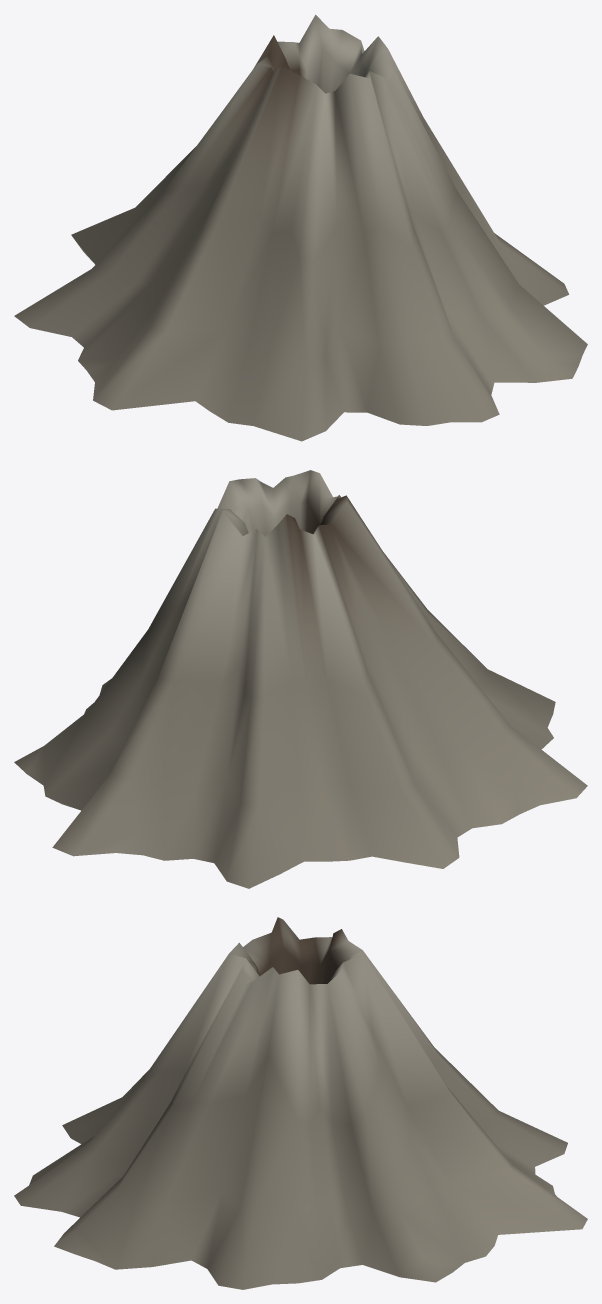
File: volcano-b-light.glb
3 views of the same model, one above another, from view 1: azimuth 30°, elevation 25°; view 2: azimuth 150°, elevation 25°; view 3: azimuth 270°, elevation 25° (orthographic). The views are drawn at different scales.
Parts seen in each view (by area): view 1: volcano-b.001; view 2: volcano-b.001; view 3: volcano-b.001.
Part boxes in pixels (x1=…): volcano-b.001: x1=14, y1=14, x2=587, y2=441; volcano-b.001: x1=14, y1=470, x2=587, y2=888; volcano-b.001: x1=14, y1=917, x2=587, y2=1289.
Bounding box in the file's own units: 2.05 × 1.11 × 2.29.
